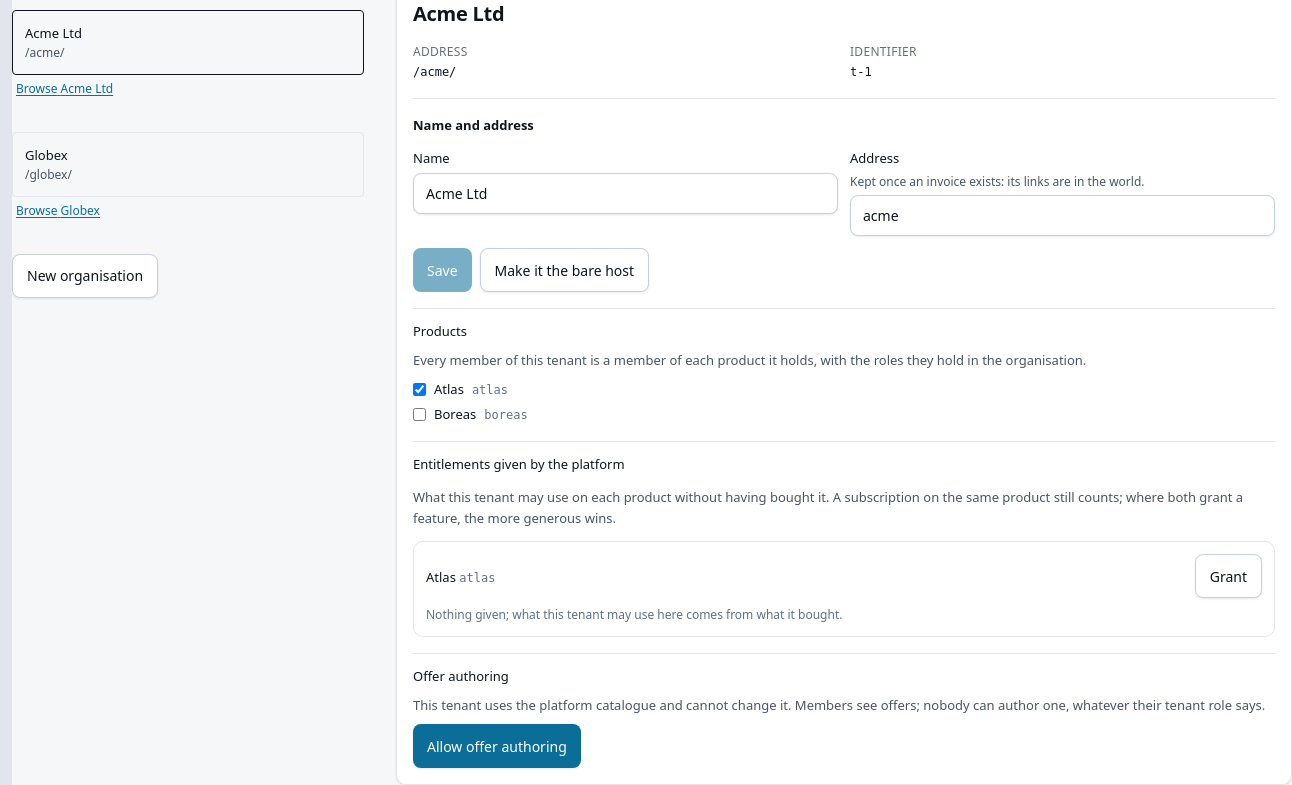
Test: offer authoring › surfaces a refusal instead of leaving the panel looking changed
The width and height of the screenshot is (1292, 785).
(page scrolled)
Click the button "Allow offer authoring": (497, 746) left=413, top=724, right=581, bottom=768
(page scrolled)
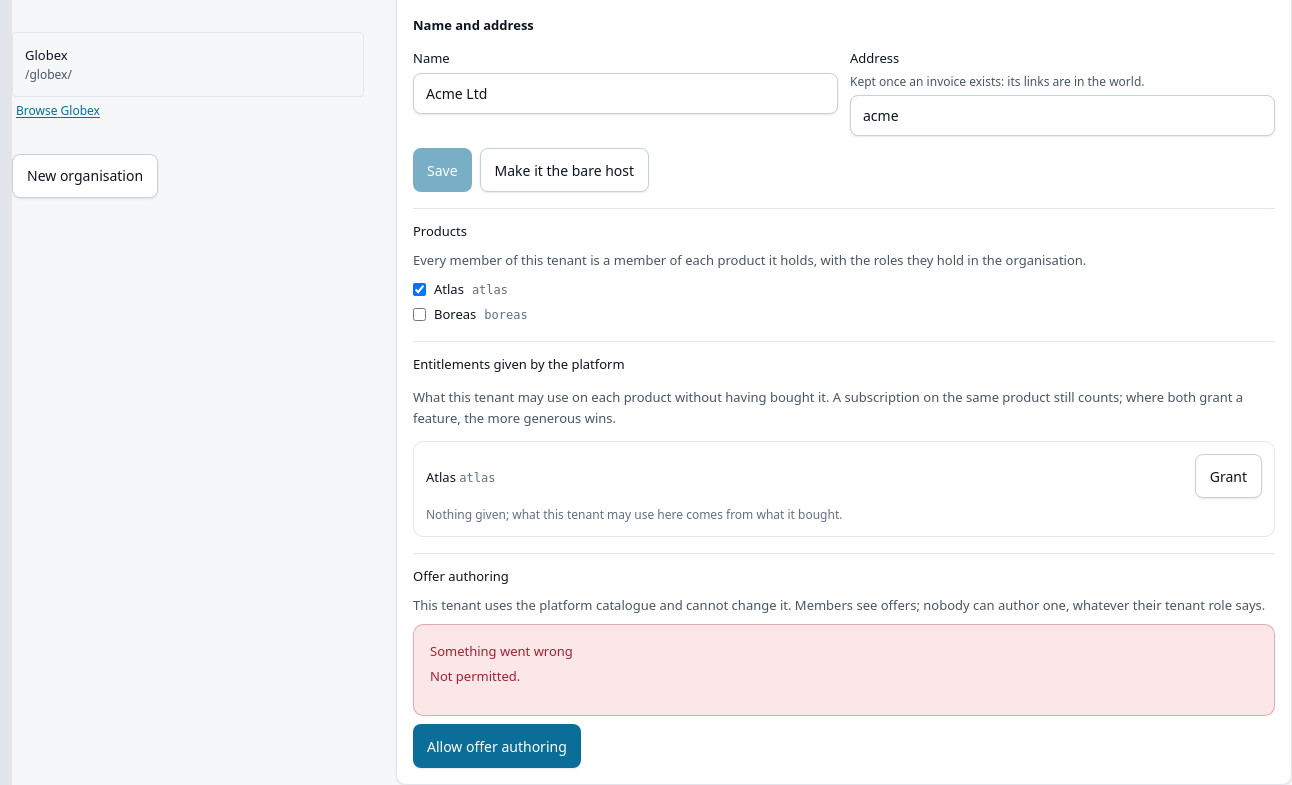
Expected: the message "Something went wrong Not permitted." is shown, left=413, top=624, right=1275, bottom=716
